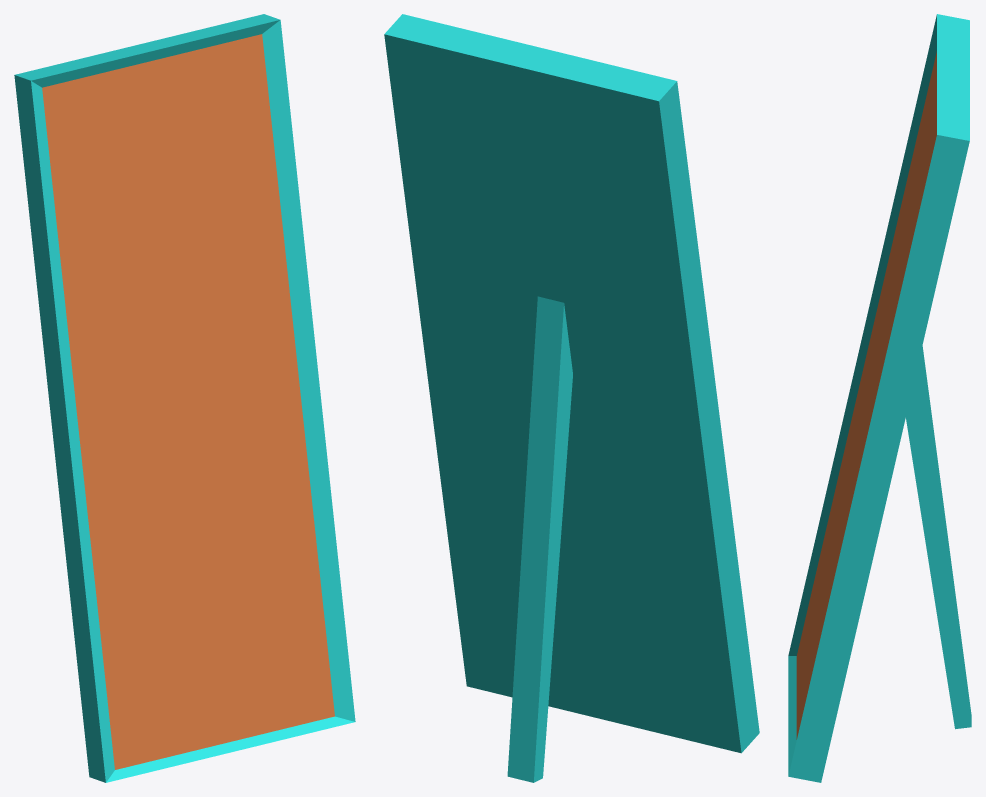
File: mirror.fbx
3 views of the same model, side by side, from view 1: azimuth 30°, elevation 25°; view 2: azimuth 150°, elevation 25°; view 3: azimuth 270°, elevation 25° (orthographic). The views are drawn at different scales.
Visible parts, largest first — view 1: mirror; view 2: mirror; view 3: mirror.
Part boxes in pixels (x1,y1,x2,y2): mirror: (14, 14, 355, 782); mirror: (384, 14, 759, 782); mirror: (788, 14, 971, 782).
Bounding box in the file's own units: 0.5281 × 1.32 × 0.3387.
